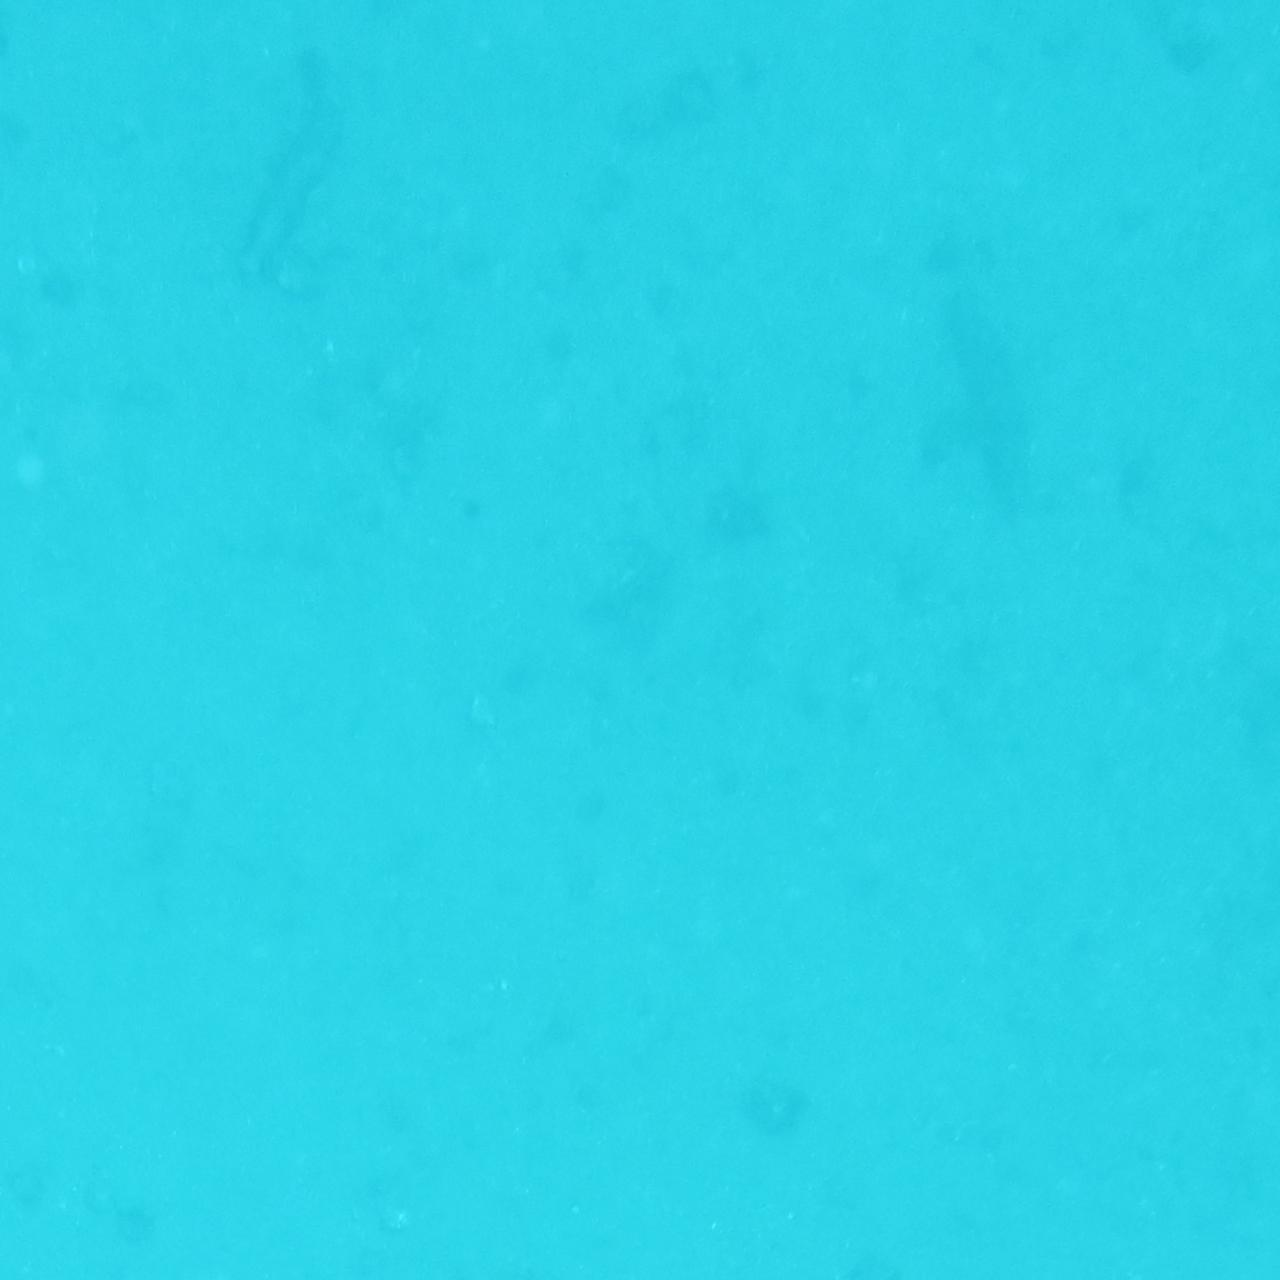Holothuria tubulosa: (918, 256, 1058, 529), (227, 36, 359, 290)
